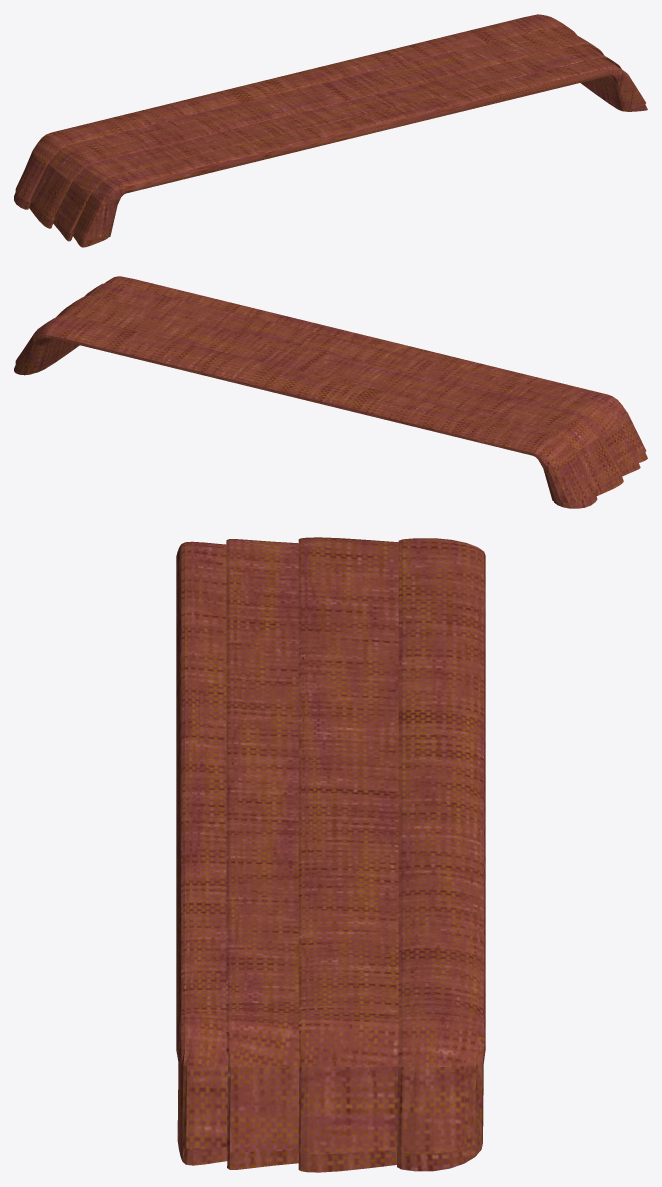
File: throw_blanket.glb
The picture shows the model from 3 angles, top to bottom: view 1: azimuth 30°, elevation 25°; view 2: azimuth 150°, elevation 25°; view 3: azimuth 270°, elevation 25°; orthographic projection. The views are drawn at different scales.
Parts seen in each view (by area): view 1: Throw_Blanket; view 2: Throw_Blanket; view 3: Throw_Blanket.
Boxes of the visible parts, left/top/right/bottom form: Throw_Blanket: left=14, top=14, right=647, bottom=247; Throw_Blanket: left=14, top=276, right=647, bottom=508; Throw_Blanket: left=176, top=537, right=485, bottom=1172.
Size of the model in its own units: 1.91 by 0.1784 by 0.4428.
1 material, 1 textured.
